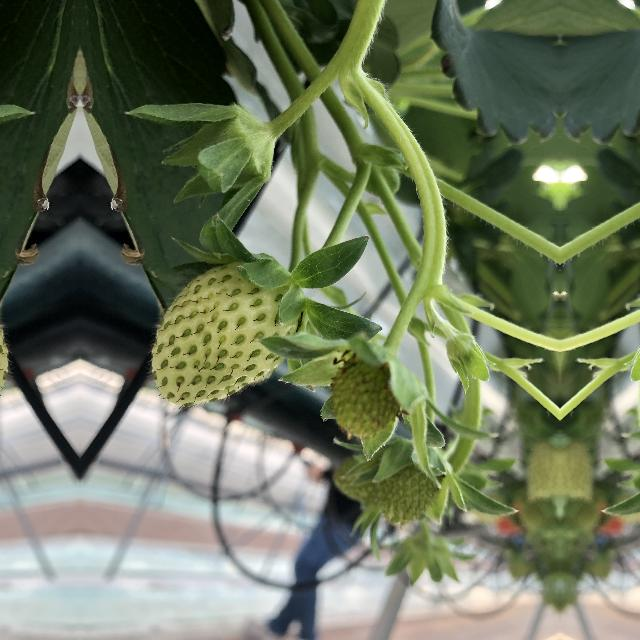Health_25: (143, 244, 311, 410), (326, 356, 404, 436), (378, 450, 439, 526)
